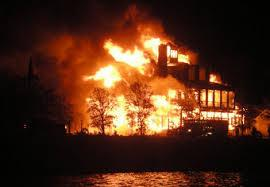fire: (62, 8, 244, 136)
